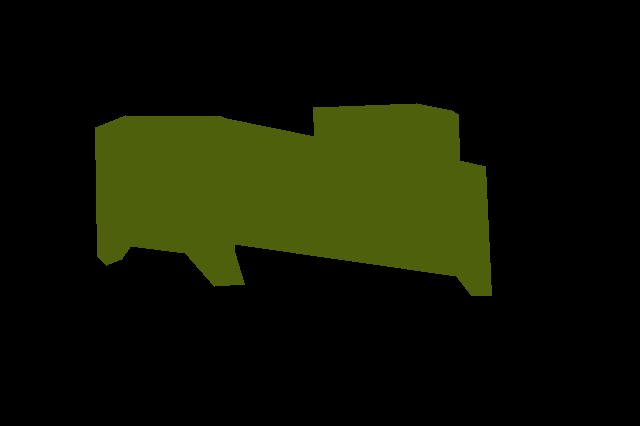Train: (95, 103, 491, 296)
